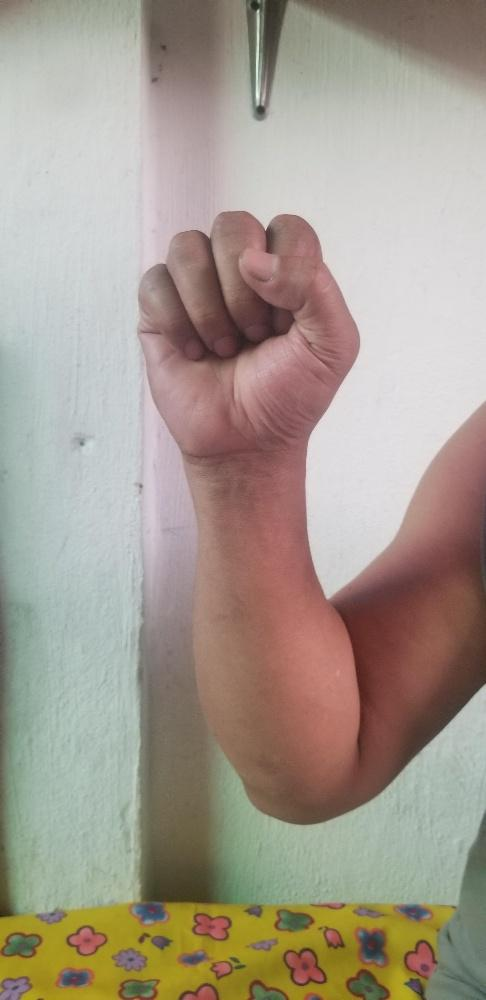s: (131, 208, 360, 445)
